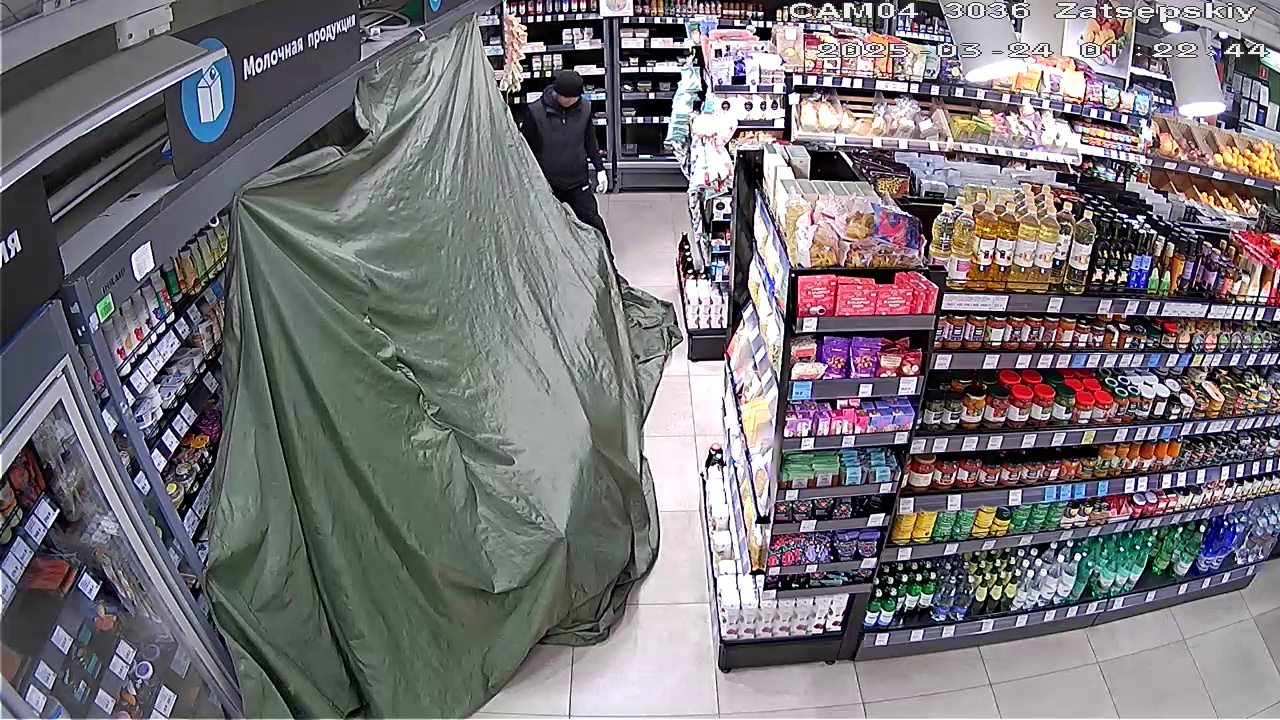Human: (506, 59, 613, 228)
dome: (200, 20, 685, 717)
